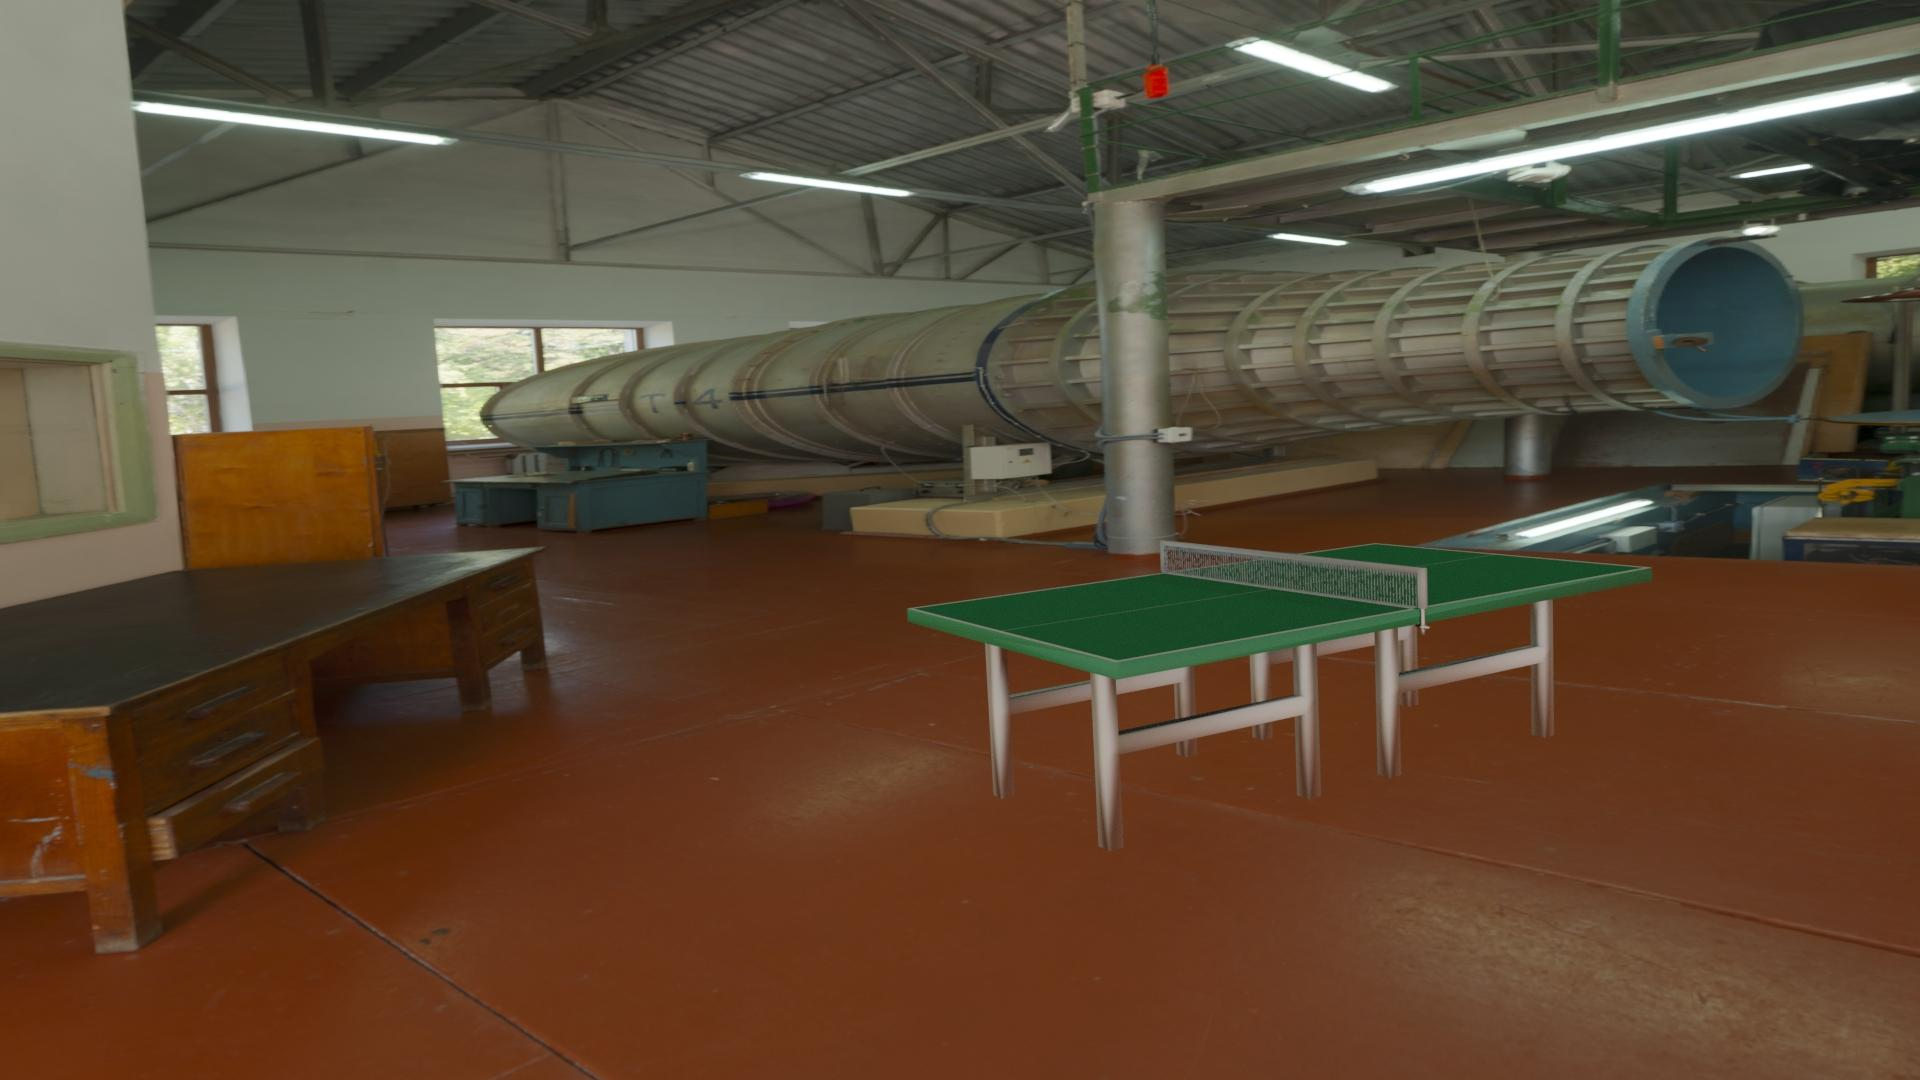table: (914, 543, 1644, 661)
